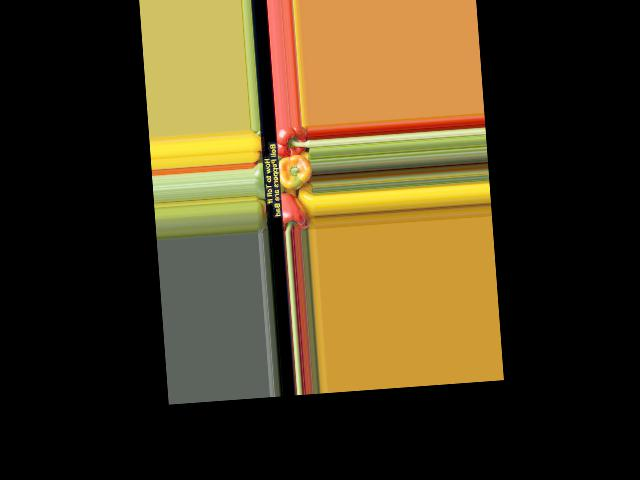bell_pepper: (274, 127, 310, 159)
